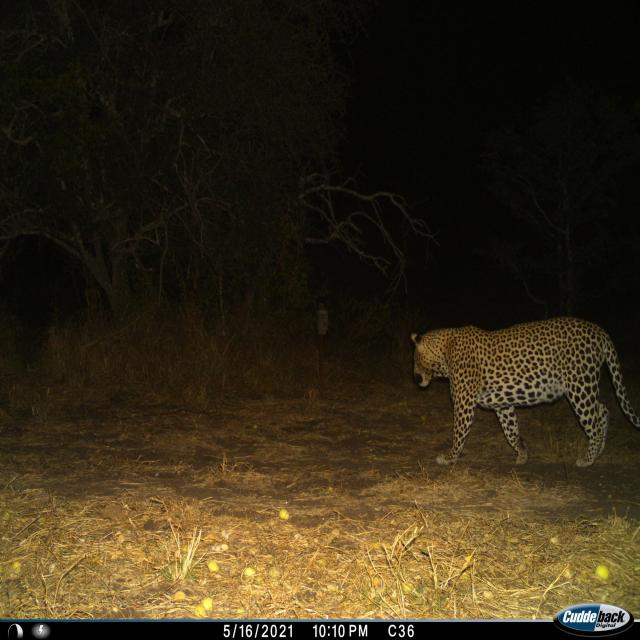Leopard: (406, 306, 640, 482)
